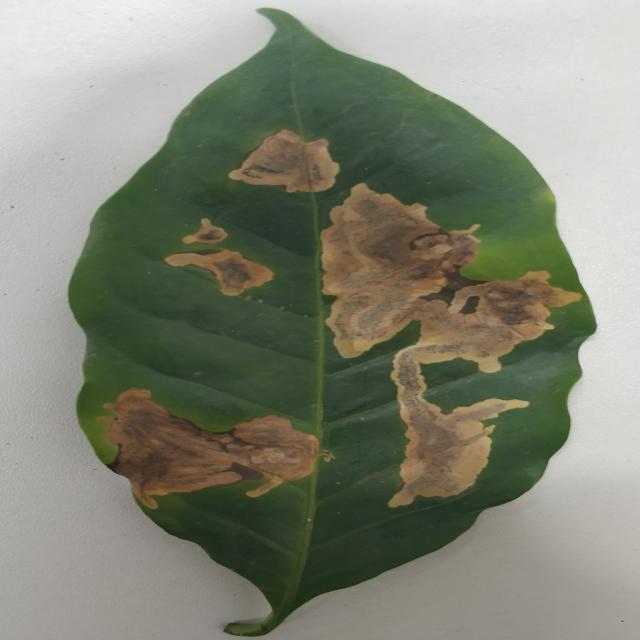Plaga-Minador: (68, 8, 598, 639)
